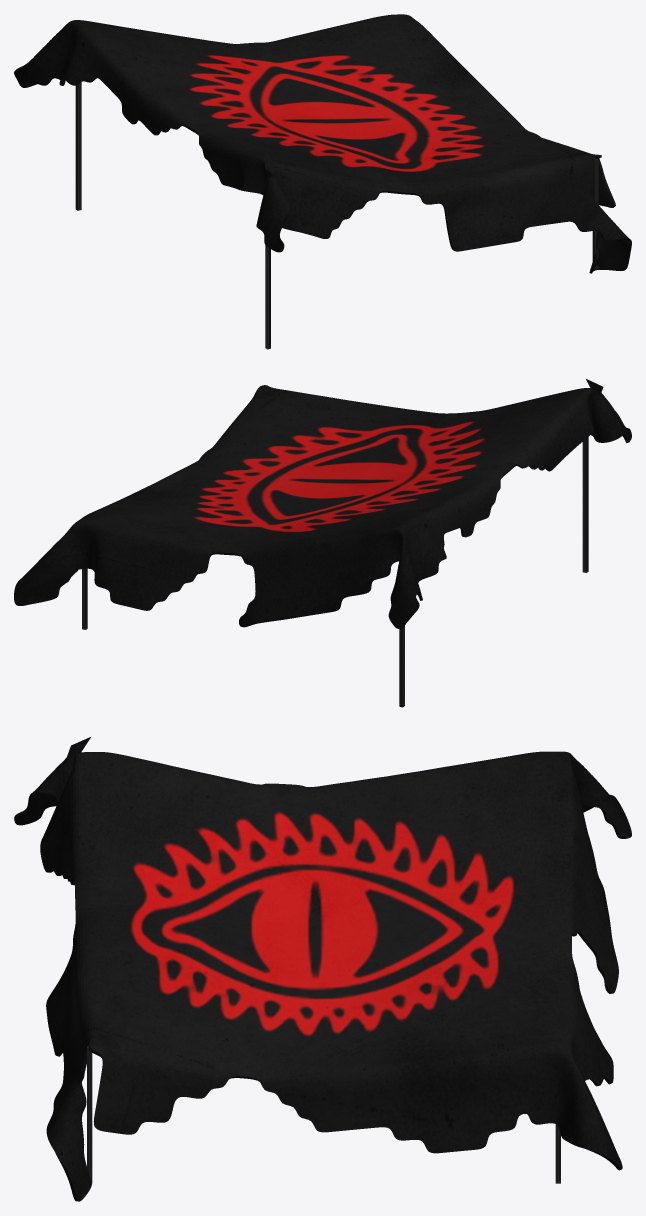
The model's file is MORDOR_TENT_1.fbx.
3 views of the same model, one above another, from view 1: azimuth 30°, elevation 25°; view 2: azimuth 150°, elevation 25°; view 3: azimuth 270°, elevation 25° (orthographic). The views are drawn at different scales.
Visible parts, largest first — view 1: MORDOR_TENT_1; view 2: MORDOR_TENT_1; view 3: MORDOR_TENT_1.
Part boxes in pixels (x1,y1,x2,y2): MORDOR_TENT_1: [14, 14, 631, 349]; MORDOR_TENT_1: [14, 379, 631, 707]; MORDOR_TENT_1: [14, 737, 631, 1201].
Bounding box in the file's own units: 736 × 343 × 758.
Materials: 2 (2 with a texture image).
